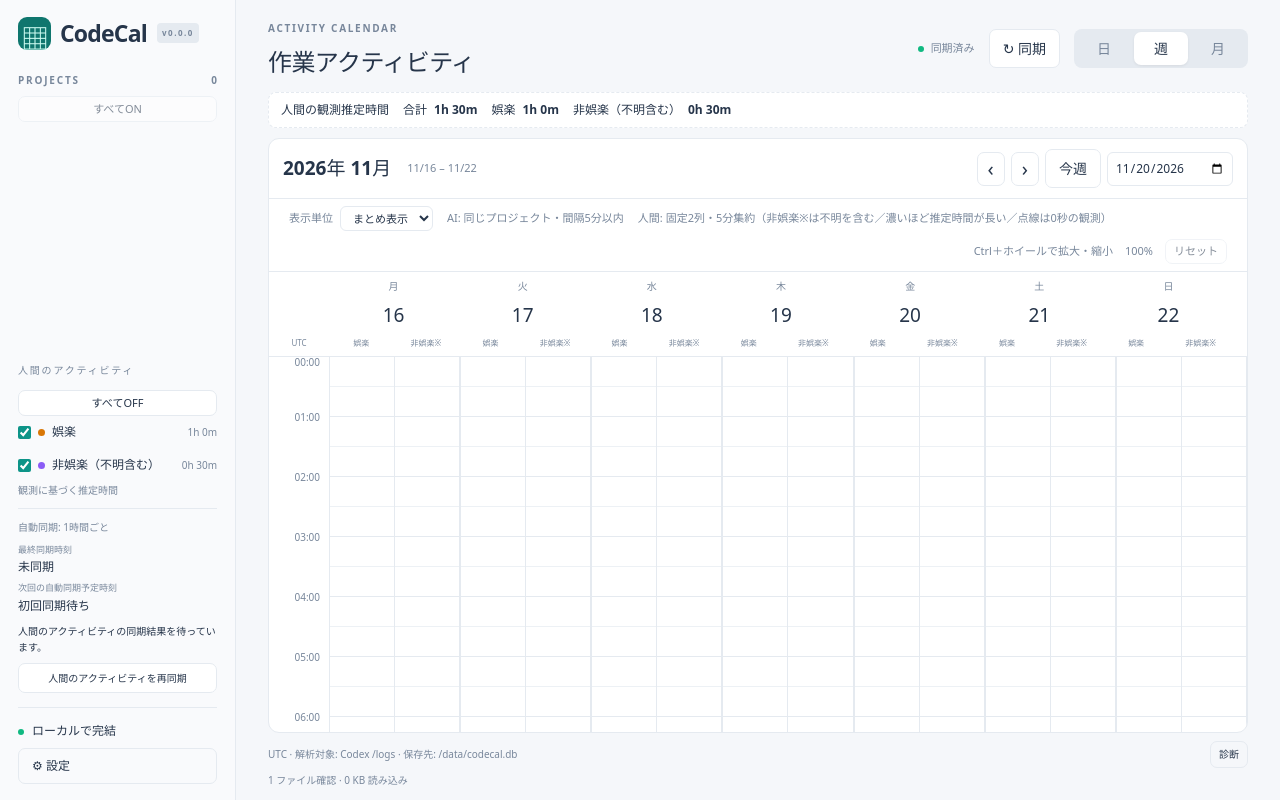
Test: opens human-only monthly day details with a separate AI list and a zero-second observation
Click the button "月" at (1218, 48), box [1191,32,1245,64]
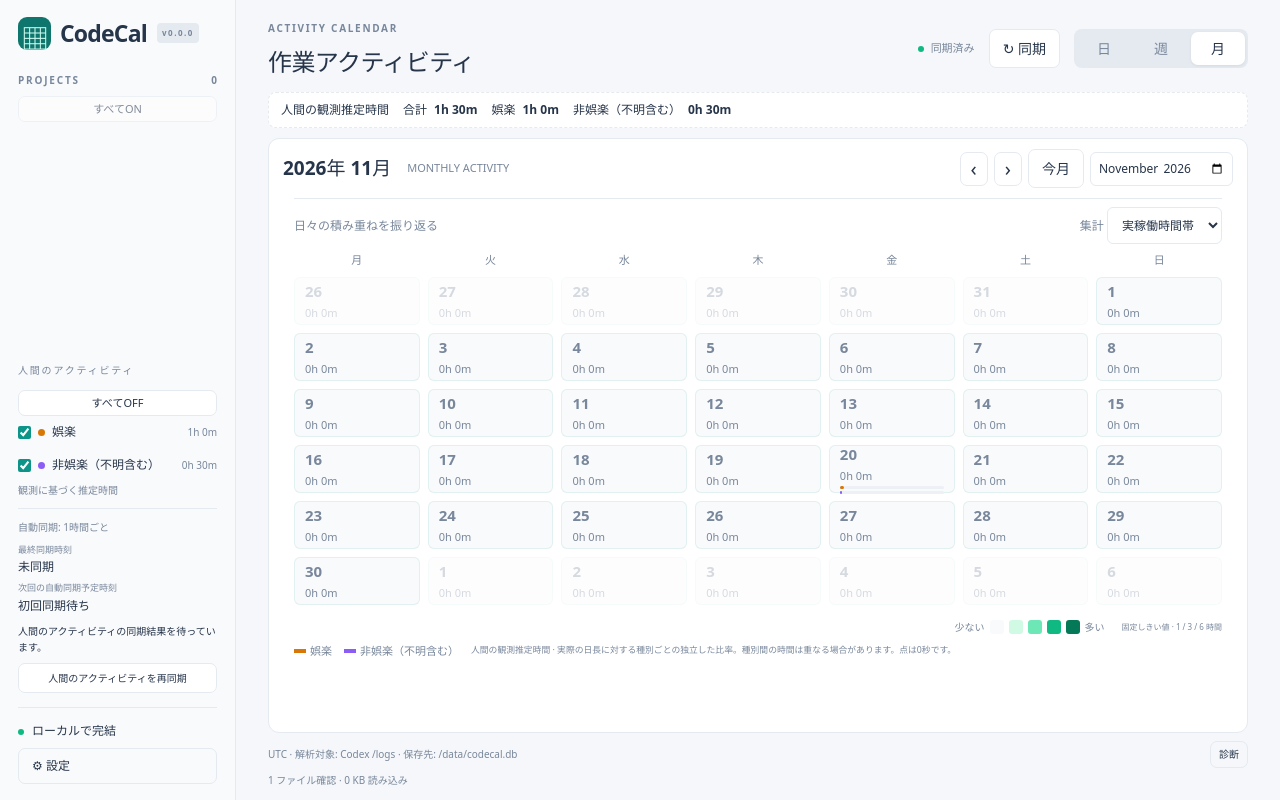
Click the button named "2026-11-20 " at (892, 468), box [829,444,954,492]
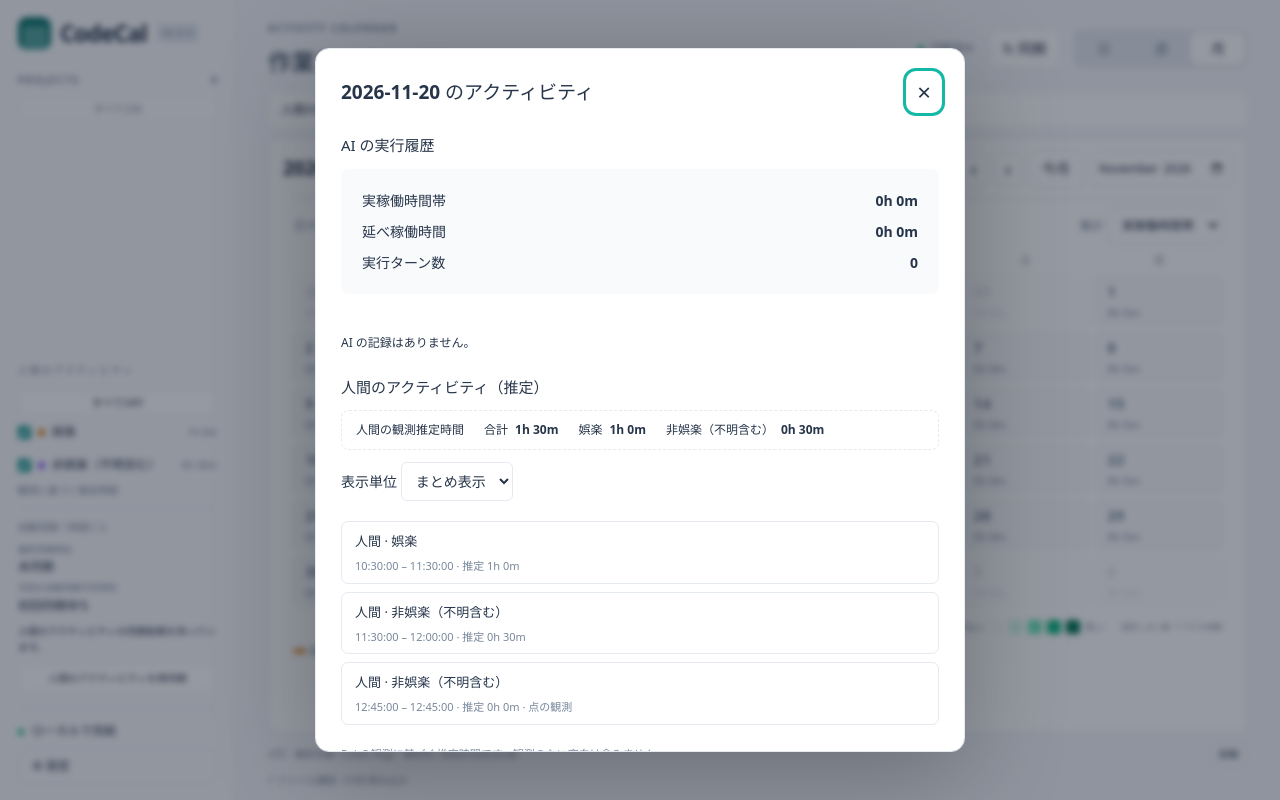
Expected: the element named "AIの実行履歴" shows "AI の記録はありません", [341,334,476,350]
Expected: the text with test id "human-total" reads "1h 30m", [515,421,558,438]
Click the button "人間 · 非娯楽（不明含む） 12:45:00 – 12:45:00 · 推定 0h 0m · 点の観測" at (373, 682), box [341,662,939,725]
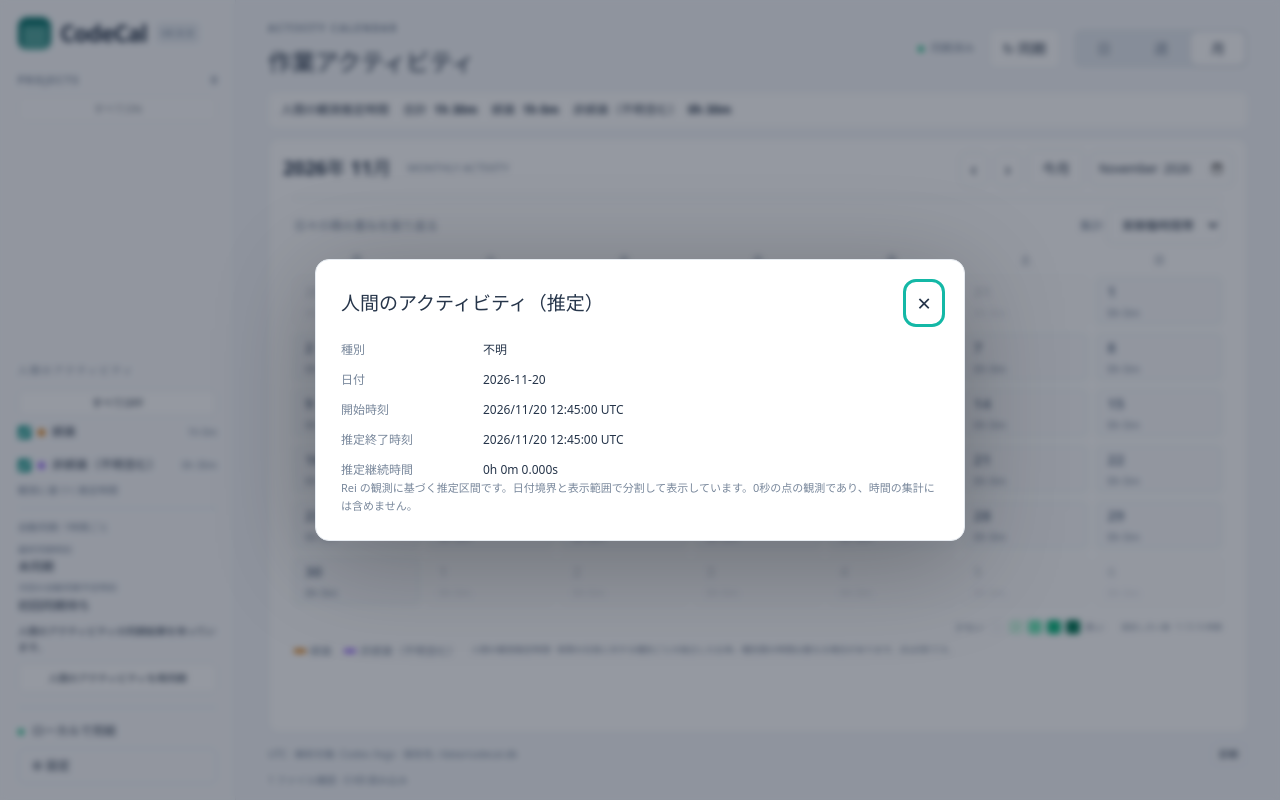
Expected: the dialog "人間のアクティビティ（推定）" does not show "/rei", [315,259,965,541]
Expected: the dialog "人間のアクティビティ（推定）" shows "0h 0m 0.000s", [315,259,965,541]
